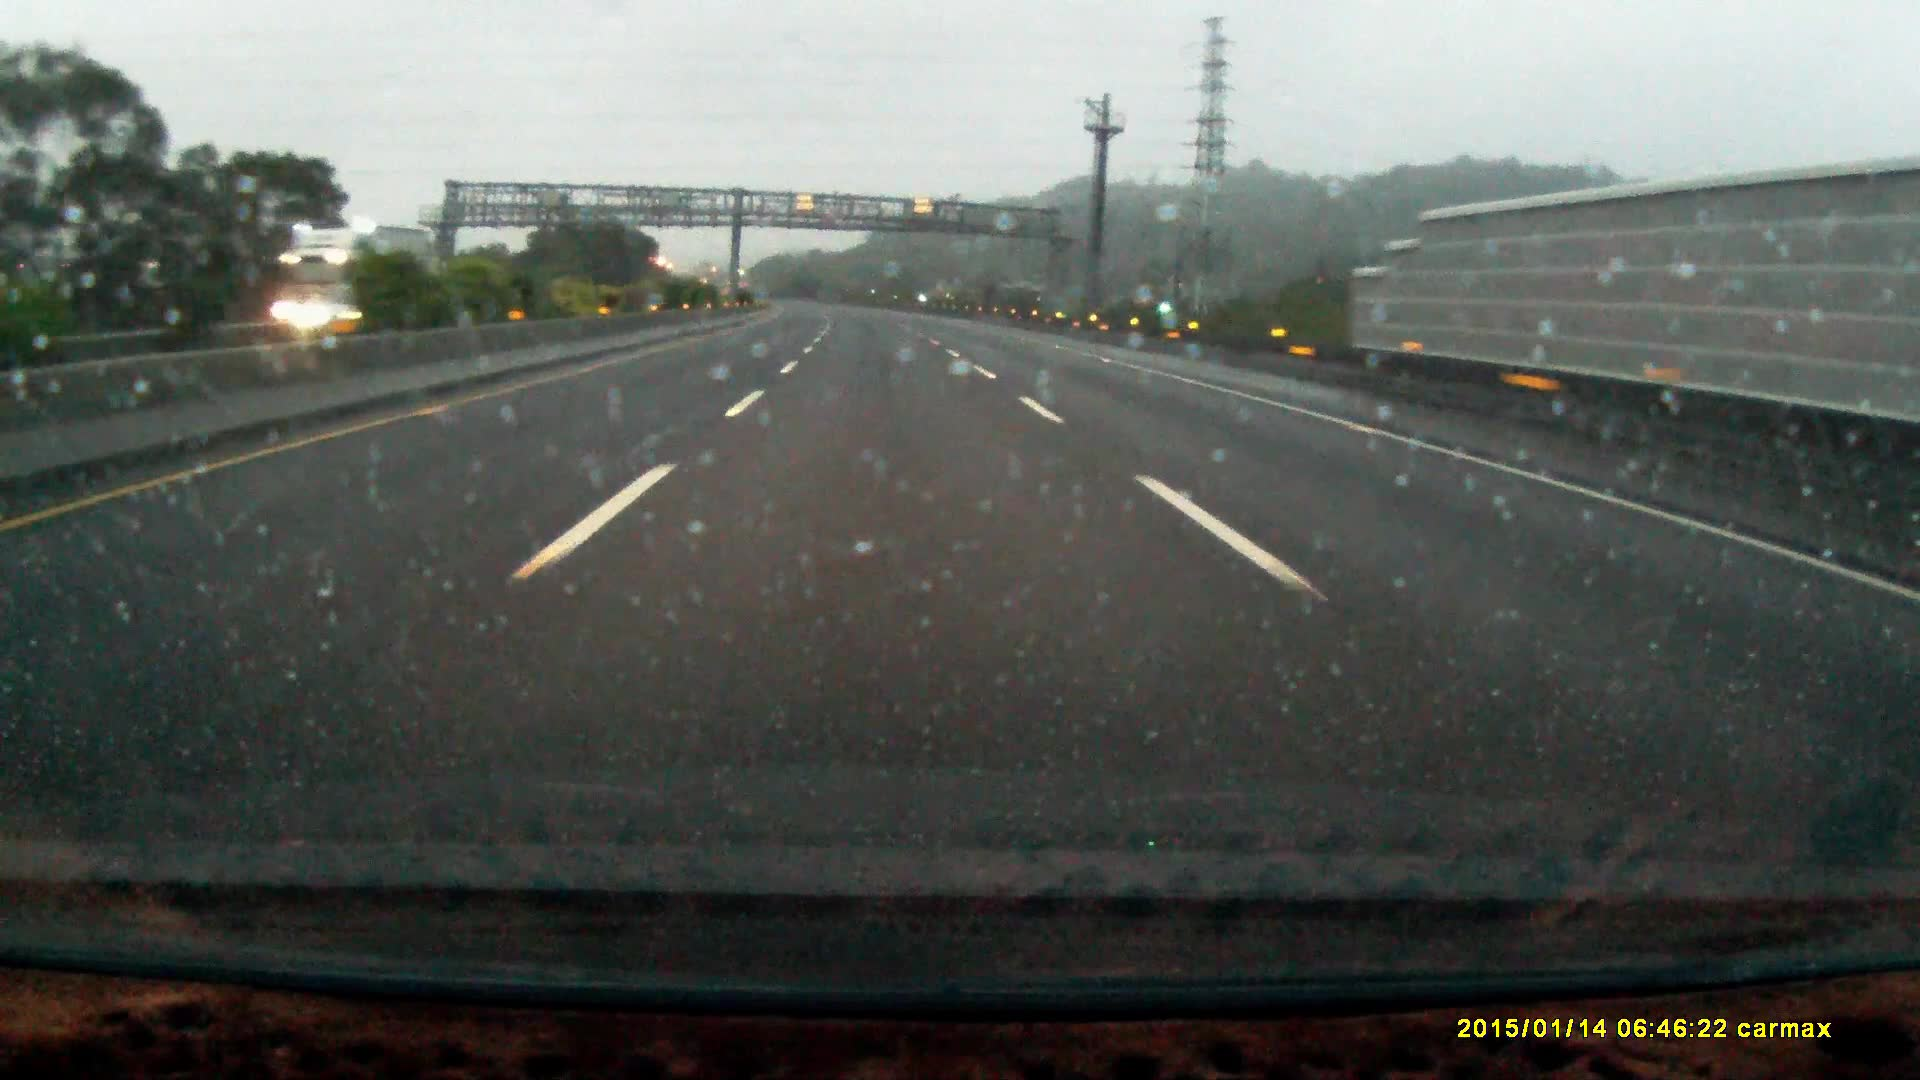vehicle: (272, 228, 427, 328), (302, 286, 386, 336)
